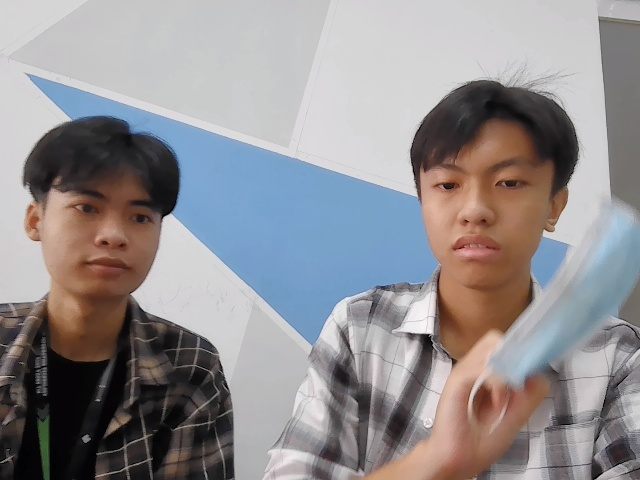human: (411, 77, 573, 296), (23, 117, 185, 299)
mask: (488, 197, 640, 393)
